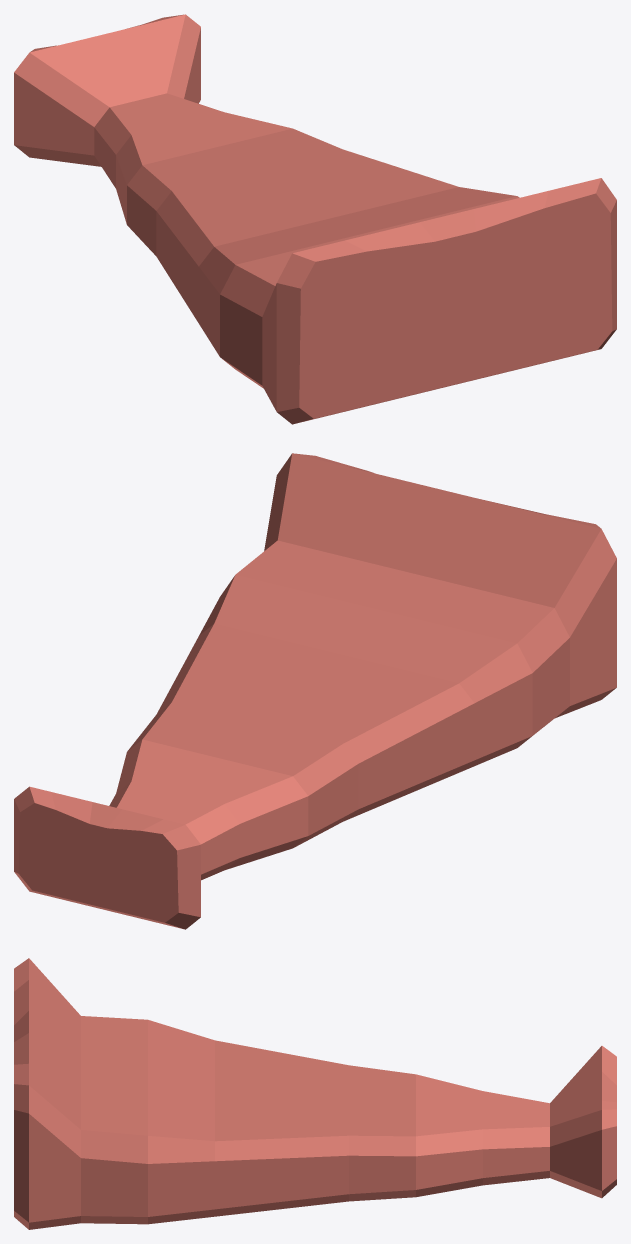
Rendered from calder_medium_c.glb.
3 renders of one model, top to bottom at view 1: azimuth 30°, elevation 25°; view 2: azimuth 150°, elevation 25°; view 3: azimuth 270°, elevation 25°, orthographic. The views are drawn at different scales.
Visible parts, largest first — view 1: calder_medium_c; view 2: calder_medium_c; view 3: calder_medium_c.
Boxes of the visible parts, x1=… form: calder_medium_c: x1=14, y1=14, x2=616, y2=424; calder_medium_c: x1=14, y1=453, x2=616, y2=929; calder_medium_c: x1=14, y1=958, x2=616, y2=1229.
Size of the model in its own units: 3.3 by 1.59 by 6.
